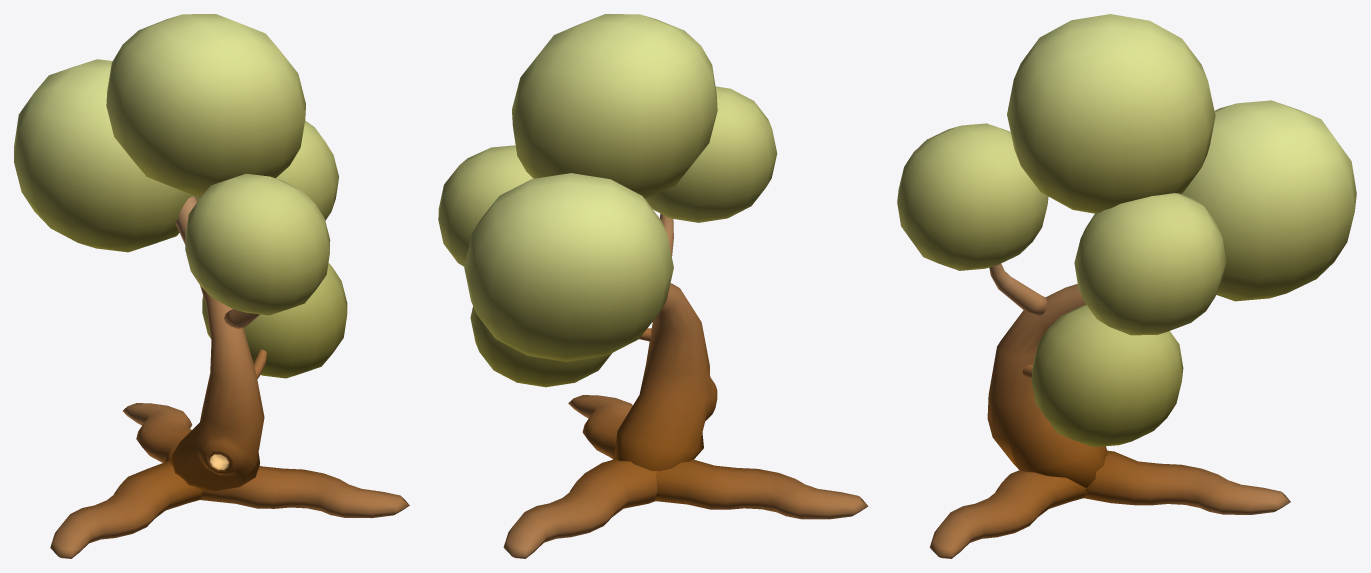
Rendered from Tree10.fbx.
The picture shows the model from 3 angles, left to right: view 1: azimuth 30°, elevation 25°; view 2: azimuth 150°, elevation 25°; view 3: azimuth 270°, elevation 25°; orthographic projection. The views are drawn at different scales.
Parts seen in each view (by area): view 1: Tree12Al_LOD0, Tree12A_LOD0; view 2: Tree12Al_LOD0, Tree12A_LOD0; view 3: Tree12Al_LOD0, Tree12A_LOD0.
Boxes of the visible parts, x1,y1,x2,y2 form: Tree12Al_LOD0: (14, 14, 347, 378); Tree12A_LOD0: (50, 196, 409, 558); Tree12Al_LOD0: (438, 14, 777, 387); Tree12A_LOD0: (503, 213, 868, 558); Tree12Al_LOD0: (897, 14, 1356, 447); Tree12A_LOD0: (929, 263, 1290, 558).
Size of what is drawn, in the model's own units: 11.84 by 13.5 by 15.36.
